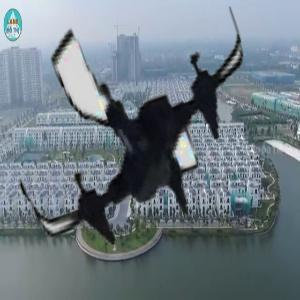drone: (7, 1, 269, 263)
